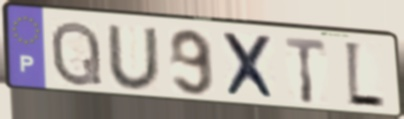9: (167, 27, 215, 98)
L: (342, 38, 387, 112)
Q: (49, 18, 105, 89)
T: (282, 35, 329, 106)
U: (104, 24, 164, 93)
X: (218, 30, 281, 103)
